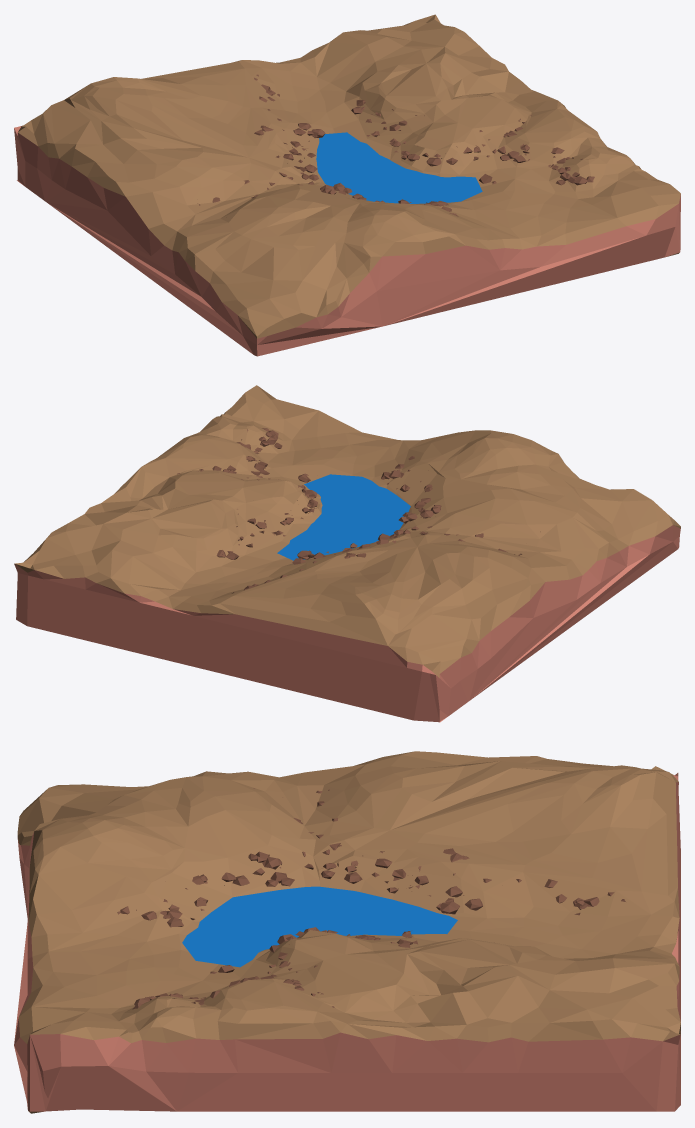
Rendered from Terrain.fbx.
3 renders of one model, top to bottom at view 1: azimuth 30°, elevation 25°; view 2: azimuth 150°, elevation 25°; view 3: azimuth 270°, elevation 25°, orthographic. The views are drawn at different scales.
Parts seen in each view (by area): view 1: Land, Rocks; view 2: Land, Rocks; view 3: Land, Rocks.
Boxes of the visible parts, x1,y1,x2,y2 form: Land: (14, 14, 680, 356); Rocks: (197, 74, 594, 216); Land: (14, 385, 680, 722); Rocks: (177, 428, 540, 593); Land: (14, 751, 680, 1113); Rocks: (117, 788, 625, 1009).
Size of the model in its own units: 1607 by 320 by 1596.
